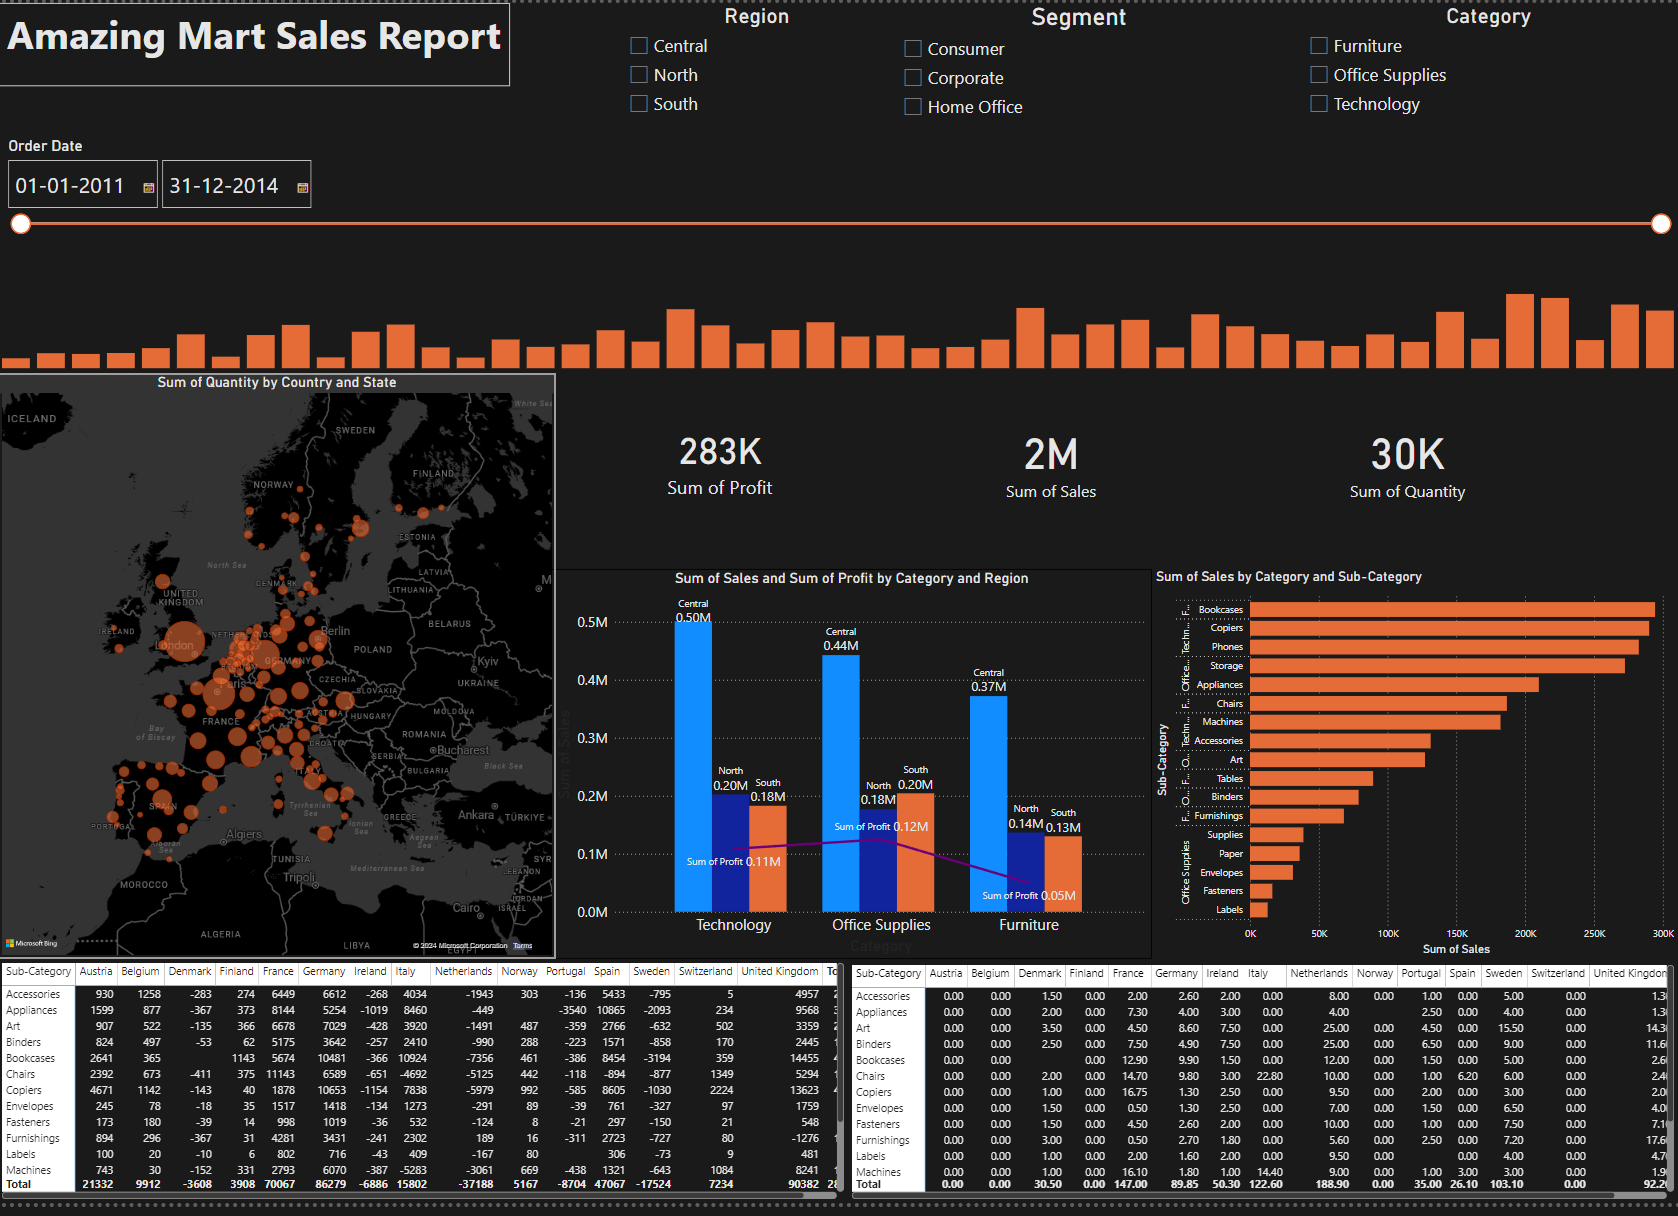

The page's visual inventory and layout, read from the dashboard file:
{"tool":"powerbi","page":{"name":"Page 1","canvas":[2100,1500],"ordinal":0},"visuals":[{"type":"lineClusteredColumnComboChart","fields":{"Category":["OrderBreakdown.Category"],"Y":["Sum(OrderBreakdown.Sales)"],"Series":["ListOfOrders.Region"],"Y2":["Sum(OrderBreakdown.Profit)"]},"box":[690,707.5,752.5,487.5],"z":0},{"type":"map","fields":{"Category":["ListOfOrders.Country","ListOfOrders.State"],"Size":["Sum(OrderBreakdown.Quantity)"]},"box":[0,462.5,697.5,732.5],"z":1000},{"type":"slicer","title":"Region","fields":{"Values":["ListOfOrders.Region"]},"box":[777.5,0,342.5,162.5],"z":2000},{"type":"clusteredBarChart","fields":{"Y":["Sum(OrderBreakdown.Sales)"],"Category":["OrderBreakdown.Category","OrderBreakdown.Sub-Category"]},"box":[1442.5,707.5,657.5,487.5],"z":3000},{"type":"pivotTable","fields":{"Rows":["OrderBreakdown.Sub-Category"],"Values":["Sum(OrderBreakdown.Profit)"],"Columns":["ListOfOrders.Country"]},"box":[0,1195,1062.5,305],"z":4000},{"type":"card","fields":{"Values":["Sum(OrderBreakdown.Profit)"]},"box":[697.5,462.5,410,215],"z":5000},{"type":"slicer","fields":{"Values":["ListOfOrders.Order Date"]},"box":[0,162.5,2100,175],"z":6000},{"type":"clusteredColumnChart","fields":{"Y":["Sum(OrderBreakdown.Sales)"],"Category":["ListOfOrders.Order Date.Variation.Date Hierarchy.Year","ListOfOrders.Order Date.Variation.Date Hierarchy.Quarter","ListOfOrders.Order Date.Variation.Date Hierarchy.Month","ListOfOrders.Order Date.Variation.Date Hierarchy.Day"]},"box":[0,312.5,2100,150],"z":7000},{"type":"card","fields":{"Values":["Sum(OrderBreakdown.Sales)"]},"box":[1107.5,462.5,417.5,215],"z":8000},{"type":"pivotTable","fields":{"Rows":["OrderBreakdown.Sub-Category"],"Columns":["ListOfOrders.Country"],"Values":["Sum(OrderBreakdown.Discount)"]},"box":[1062.5,1197.5,1037.5,302.5],"z":9000},{"type":"slicer","title":"Category","fields":{"Values":["OrderBreakdown.Category"]},"box":[1627.5,0,472.5,162.5],"z":10000},{"type":"slicer","title":"Segment","fields":{"Values":["ListOfOrders.Segment"]},"box":[1120,0,462.5,162.5],"z":11000},{"type":"card","fields":{"Values":["Sum(OrderBreakdown.Quantity)"]},"box":[1526,463,474,215],"z":12000},{"type":"textbox","title":"Amazing Mart Sales Report","box":[0,0,640,104],"z":13000}]}

Visuals, with their boxes in screenshot pixels (x1, y1, x2, y2), scaled from the page's 2100x1500 canvas onto the 1678x1216 screenshot:
lineClusteredColumnComboChart - OrderBreakdown.Category x Sum(OrderBreakdown.Sales): rect(551, 574, 1153, 969)
map - ListOfOrders.Country x ListOfOrders.State: rect(0, 375, 557, 969)
"Region" slicer: rect(621, 0, 895, 132)
clusteredBarChart - Sum(OrderBreakdown.Sales) x OrderBreakdown.Category: rect(1153, 574, 1677, 969)
pivotTable - OrderBreakdown.Sub-Category x Sum(OrderBreakdown.Profit): rect(0, 969, 849, 1215)
card - Sum(OrderBreakdown.Profit): rect(557, 375, 885, 549)
slicer - ListOfOrders.Order Date: rect(0, 132, 1677, 274)
clusteredColumnChart - Sum(OrderBreakdown.Sales) x ListOfOrders.Order Date.Variation.Date Hierarchy.Year: rect(0, 253, 1677, 375)
card - Sum(OrderBreakdown.Sales): rect(885, 375, 1219, 549)
pivotTable - OrderBreakdown.Sub-Category x ListOfOrders.Country: rect(849, 971, 1677, 1215)
"Category" slicer: rect(1300, 0, 1677, 132)
"Segment" slicer: rect(895, 0, 1264, 132)
card - Sum(OrderBreakdown.Quantity): rect(1219, 375, 1598, 550)
"Amazing Mart Sales Report" textbox: rect(0, 0, 511, 84)
